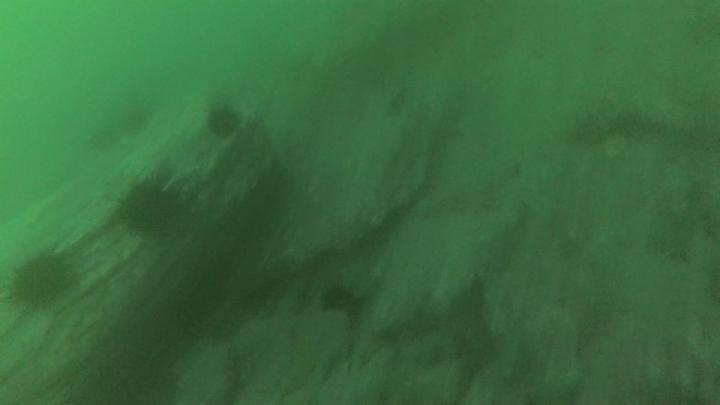echinus: (6, 246, 78, 312), (115, 173, 183, 236), (319, 281, 365, 319), (204, 102, 243, 141), (117, 100, 155, 135), (94, 127, 121, 148)
